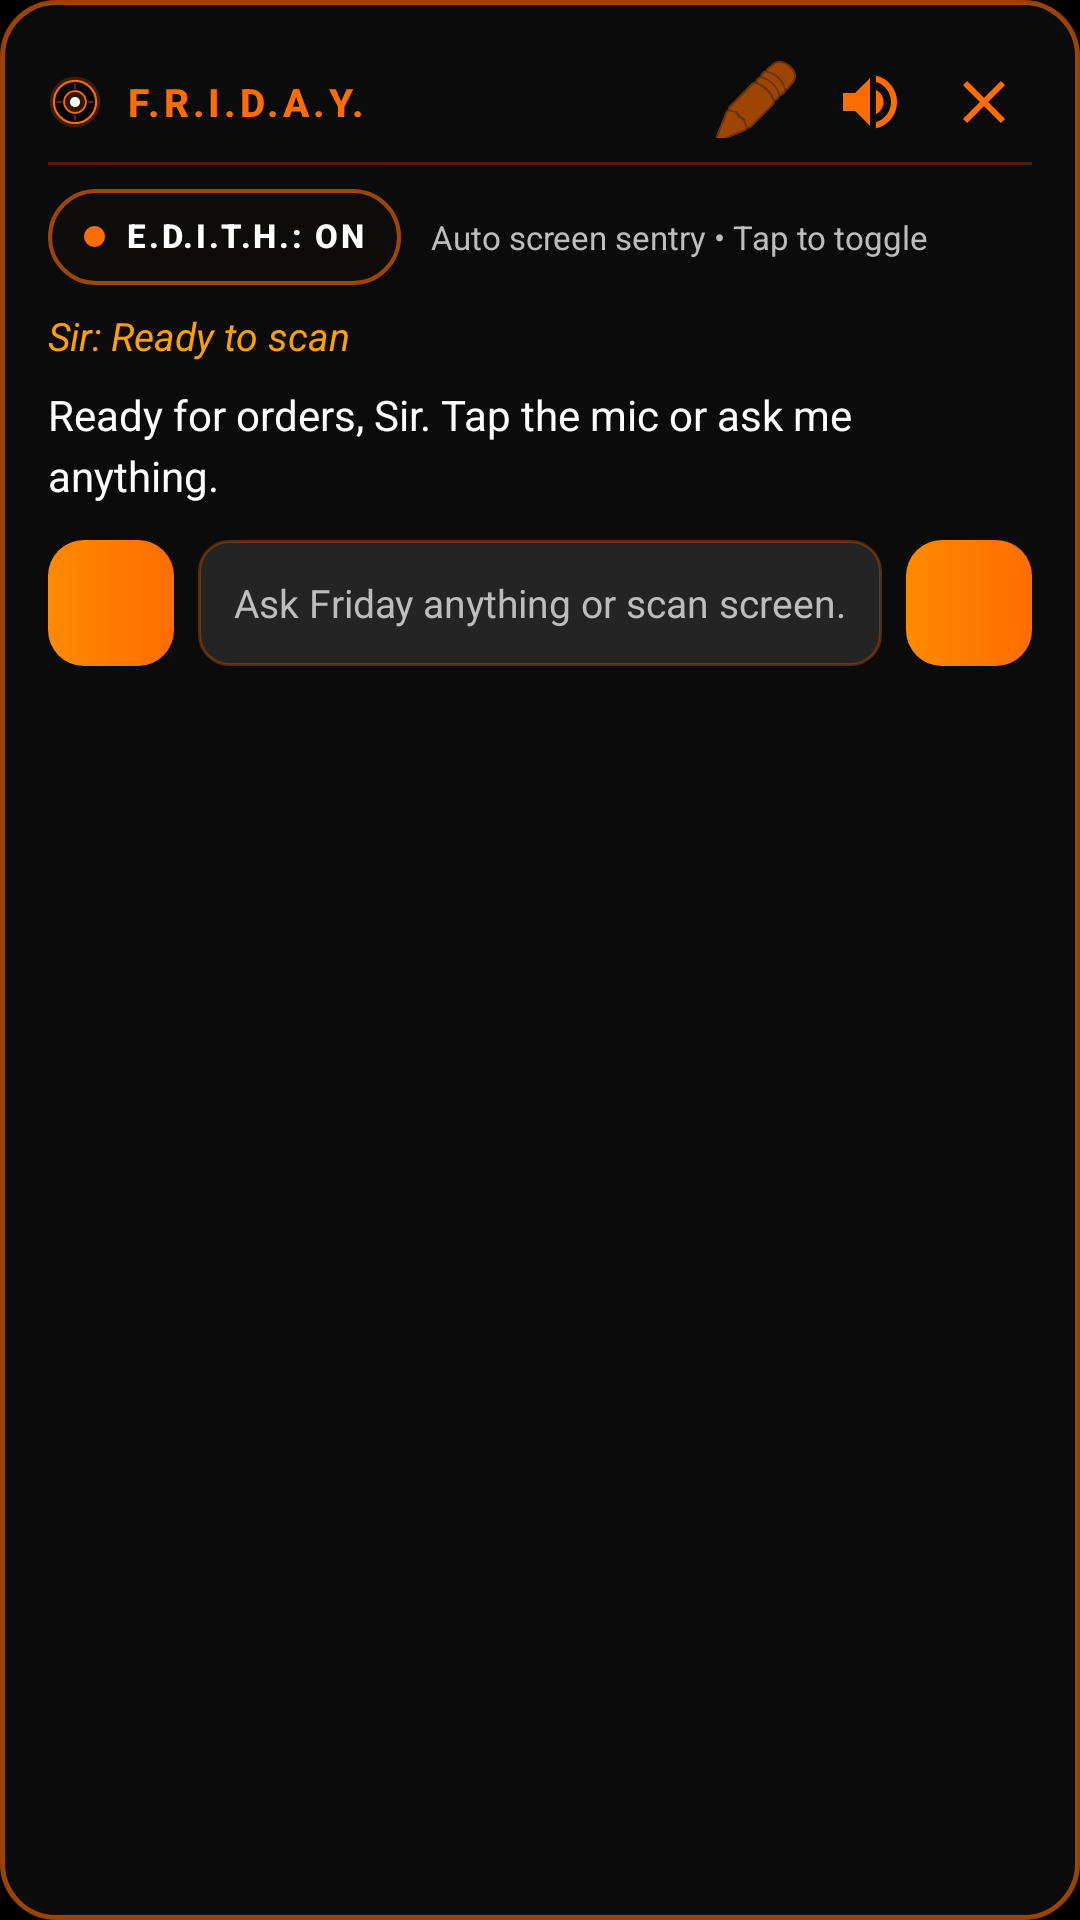

Named icons in this screenshot (1080 x 1920) and their centers, (x=x, y=y):
Close HUD: (x=984, y=102)
Replay Voice: (x=870, y=102)
Type into Active App: (x=755, y=99)
